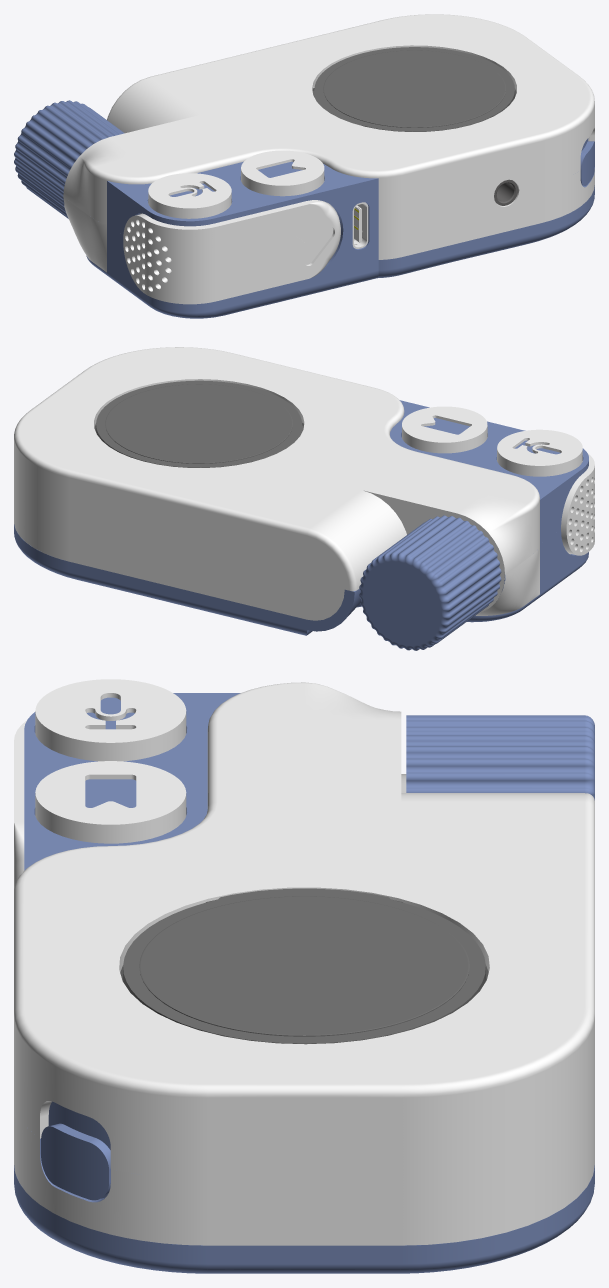
Rendered from player_sim.glb.
3 renders of one model, top to bottom at view 1: azimuth 30°, elevation 25°; view 2: azimuth 150°, elevation 25°; view 3: azimuth 270°, elevation 25°, orthographic. The views are drawn at different scales.
Parts seen in each view (by area): view 1: front_face, Back_Button, Body45, Body2.006, Buttonshell, knob, Save_button__1_, Save_button, Body1.034, on_off_switch, Body1.038, Body4.006; view 2: front_face, knob, Body2.006, Body45, Buttonshell, Save_button__1_, Save_button, Body1.034, Back_Button; view 3: front_face, Body2.006, Body45, knob, Save_button__1_, Save_button, Body1.034, Buttonshell, on_off_switch, Back_Button.
Boxes of the visible parts, x1,y1,x2,y2 form: front_face: (63,14,594,259); Back_Button: (123,200,340,304); Body45: (63,167,594,318); Body2.006: (323,50,505,127); Buttonshell: (107,161,378,235); knob: (14,100,124,218); Save_button__1_: (241,150,324,196); Save_button: (148,173,231,218); Body1.034: (312,47,514,131); on_off_switch: (580,138,594,185); Body1.038: (494,179,518,205); Body4.006: (352,202,368,248); front_face: (14,347,539,620); knob: (359,515,501,650); Body2.006: (105,384,292,463); Body45: (14,524,588,635); Buttonshell: (390,400,588,544); Save_button__1_: (402,406,487,453); Save_button: (497,429,582,476); Body1.034: (96,380,303,467); Back_Button: (561,453,594,555); front_face: (14,682,594,1245); Body2.006: (139,896,469,1035); Body45: (14,1126,594,1273); knob: (406,715,594,800); Save_button__1_: (35,761,186,843); Save_button: (35,679,186,761); Body1.034: (123,888,485,1044); Buttonshell: (24,693,240,870); on_off_switch: (41,1101,110,1200); Back_Button: (14,720,26,891).
Bounding box in the file's own units: 0.095 × 0.024 × 0.057.
